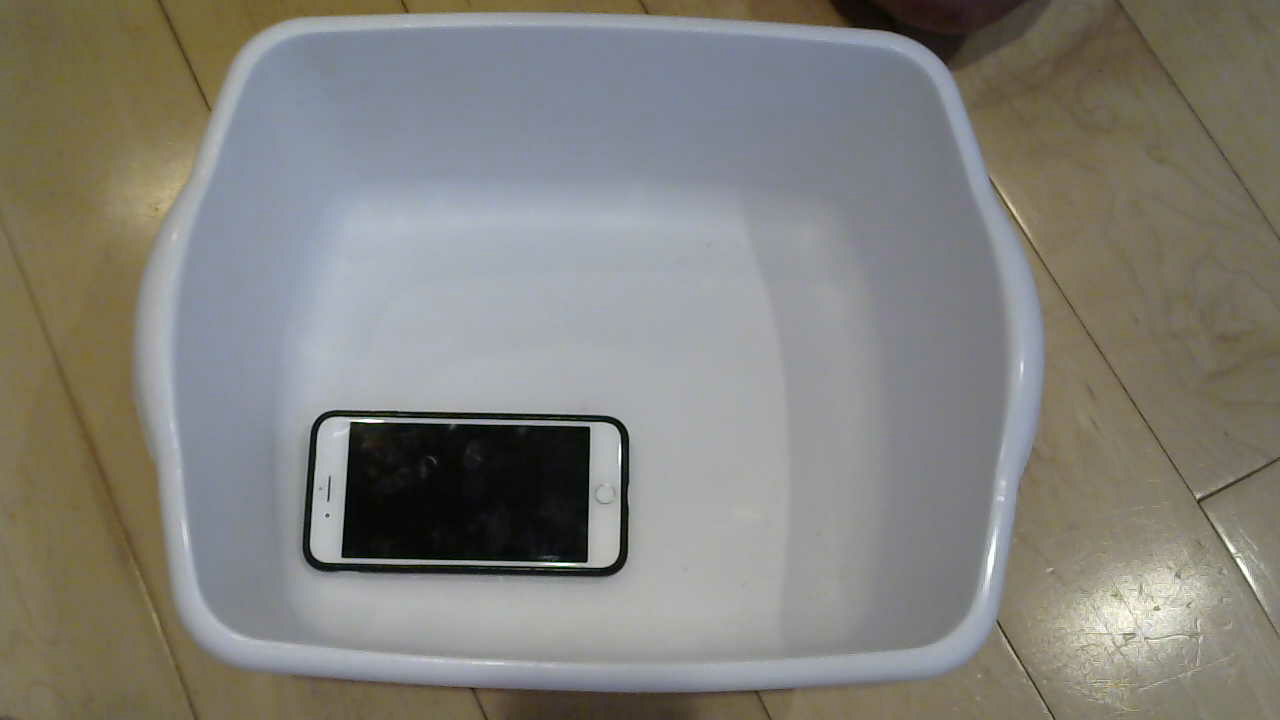phone: (283, 404, 657, 597)
